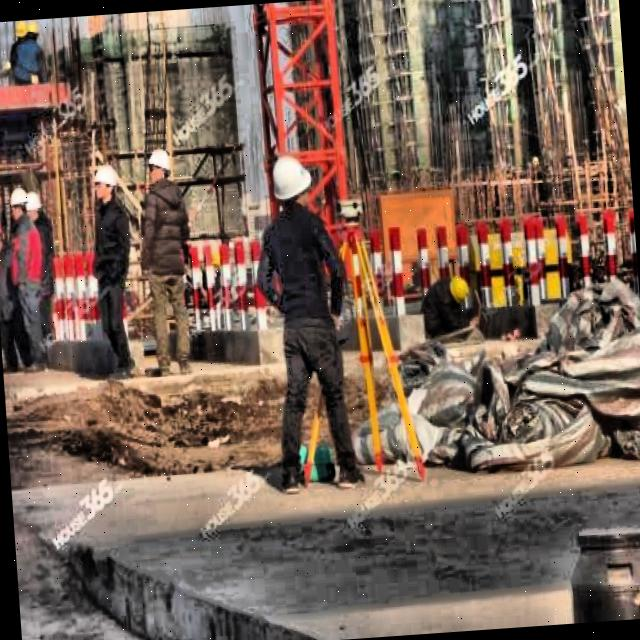helmet: (265, 151, 314, 213), (88, 162, 116, 204), (148, 145, 172, 186), (448, 269, 472, 305), (8, 186, 29, 220), (26, 190, 44, 222), (13, 21, 28, 41)
